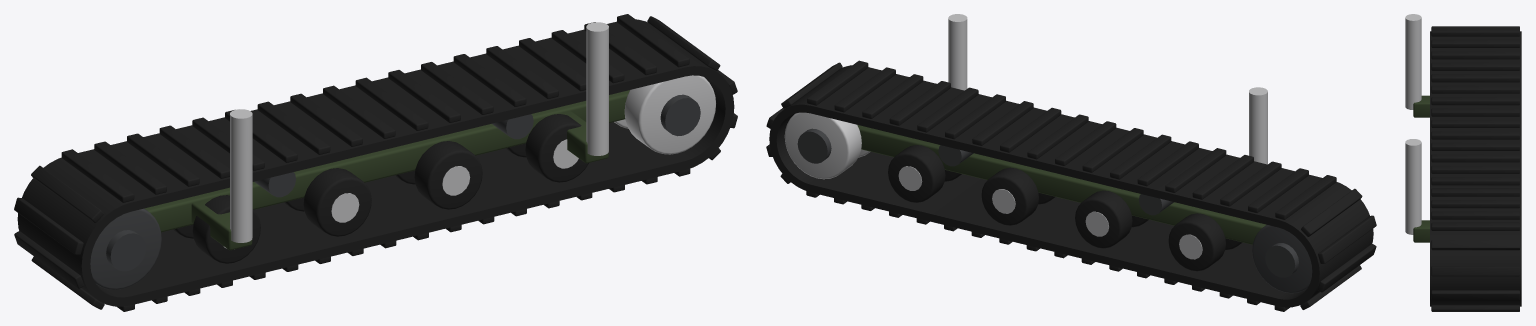
Rendered from track_left.glb.
The picture shows the model from 3 angles, left to right: view 1: azimuth 30°, elevation 25°; view 2: azimuth 150°, elevation 25°; view 3: azimuth 270°, elevation 25°; orthographic projection. The views are drawn at different scales.
Parts seen in each view (by area): view 1: track_left; view 2: track_left; view 3: track_left.
Part boxes in pixels (<box>): track_left: <box>14,14,737,311</box>; track_left: <box>766,14,1376,311</box>; track_left: <box>1405,14,1521,311</box>.
Bounding box in the file's own units: 1.67 × 0.4402 × 0.355.
